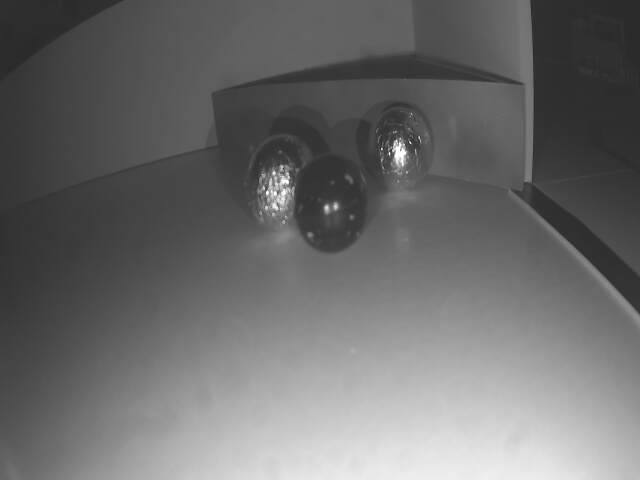Dead: (295, 157, 365, 255)
Green: (207, 89, 525, 191)
Live: (242, 139, 317, 235), (370, 108, 434, 192)
